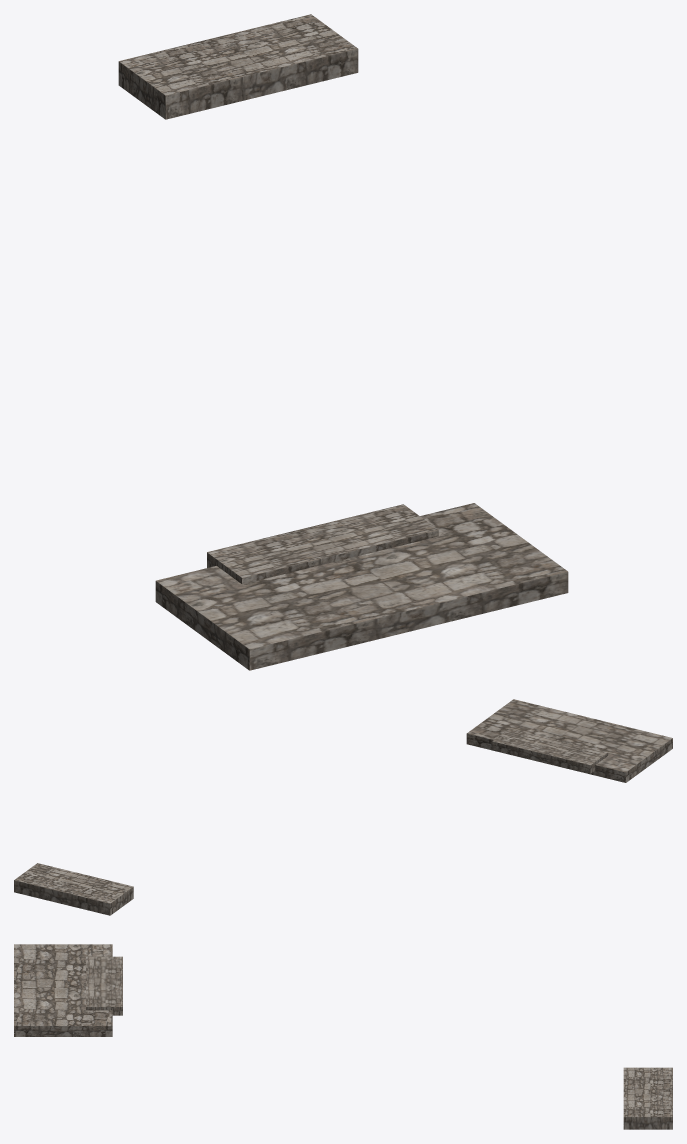
File: BW_ElderCottage01_Steps.fbx
3 renders of one model, top to bottom at view 1: azimuth 30°, elevation 25°; view 2: azimuth 150°, elevation 25°; view 3: azimuth 270°, elevation 25°, orthographic. The views are drawn at different scales.
Parts seen in each view (by area): view 1: BW_ElderCottage01_Steps; view 2: BW_ElderCottage01_Steps; view 3: BW_ElderCottage01_Steps.
Boxes of the visible parts, x1=… form: BW_ElderCottage01_Steps: x1=118, y1=14, x2=568, y2=670; BW_ElderCottage01_Steps: x1=14, y1=699, x2=672, y2=915; BW_ElderCottage01_Steps: x1=14, y1=944, x2=672, y2=1129.
Bounding box in the file's own units: 5.08 × 0.2 × 8.02.
